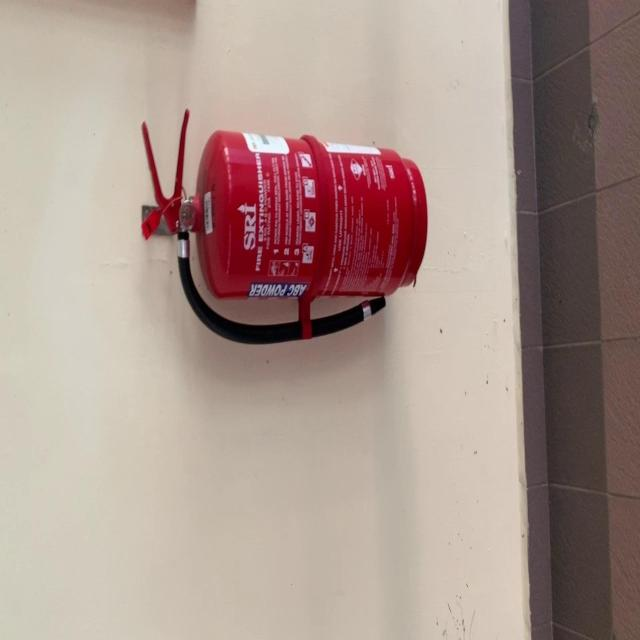fire_extinguisher: (139, 104, 430, 350)
